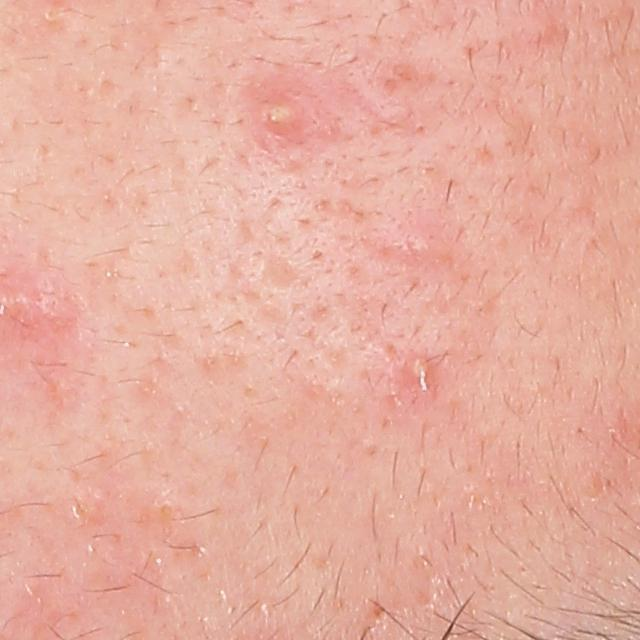atrophic_scar: (257, 250, 310, 292)
comedo: (151, 497, 180, 524)
pustule: (254, 84, 316, 135), (401, 351, 434, 385)
